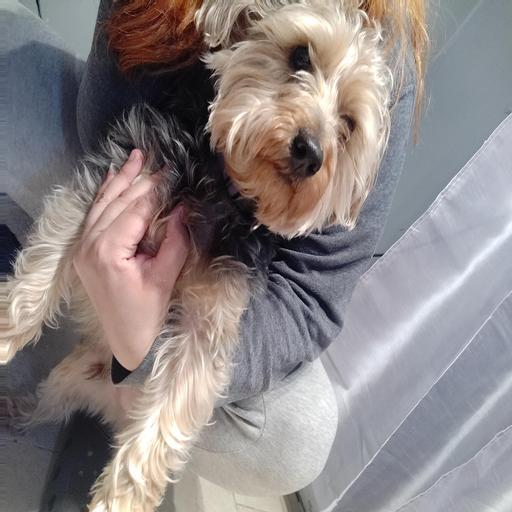dog: (192, 8, 411, 227)
